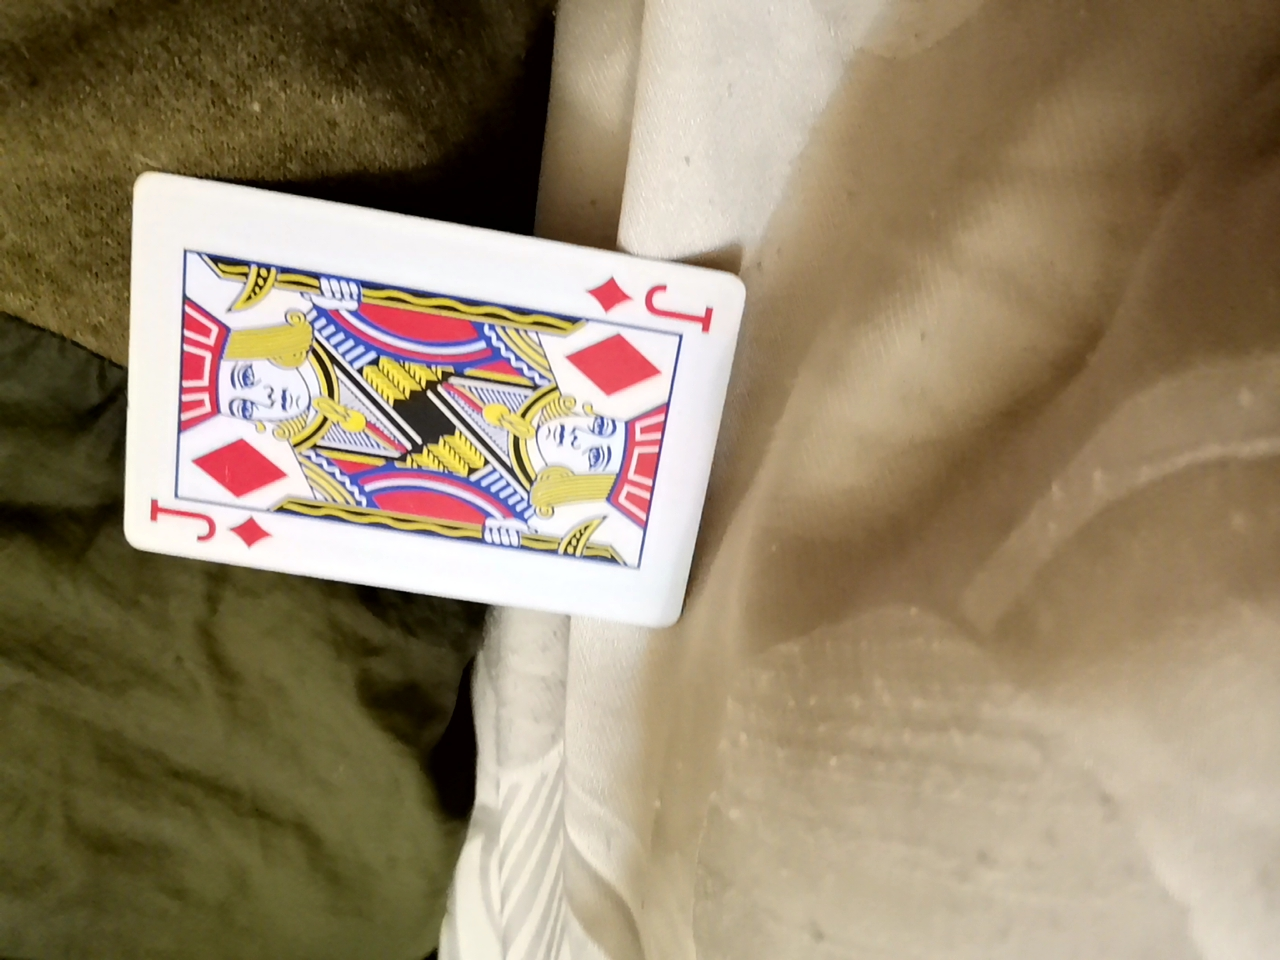fk j: (102, 170, 755, 639)
